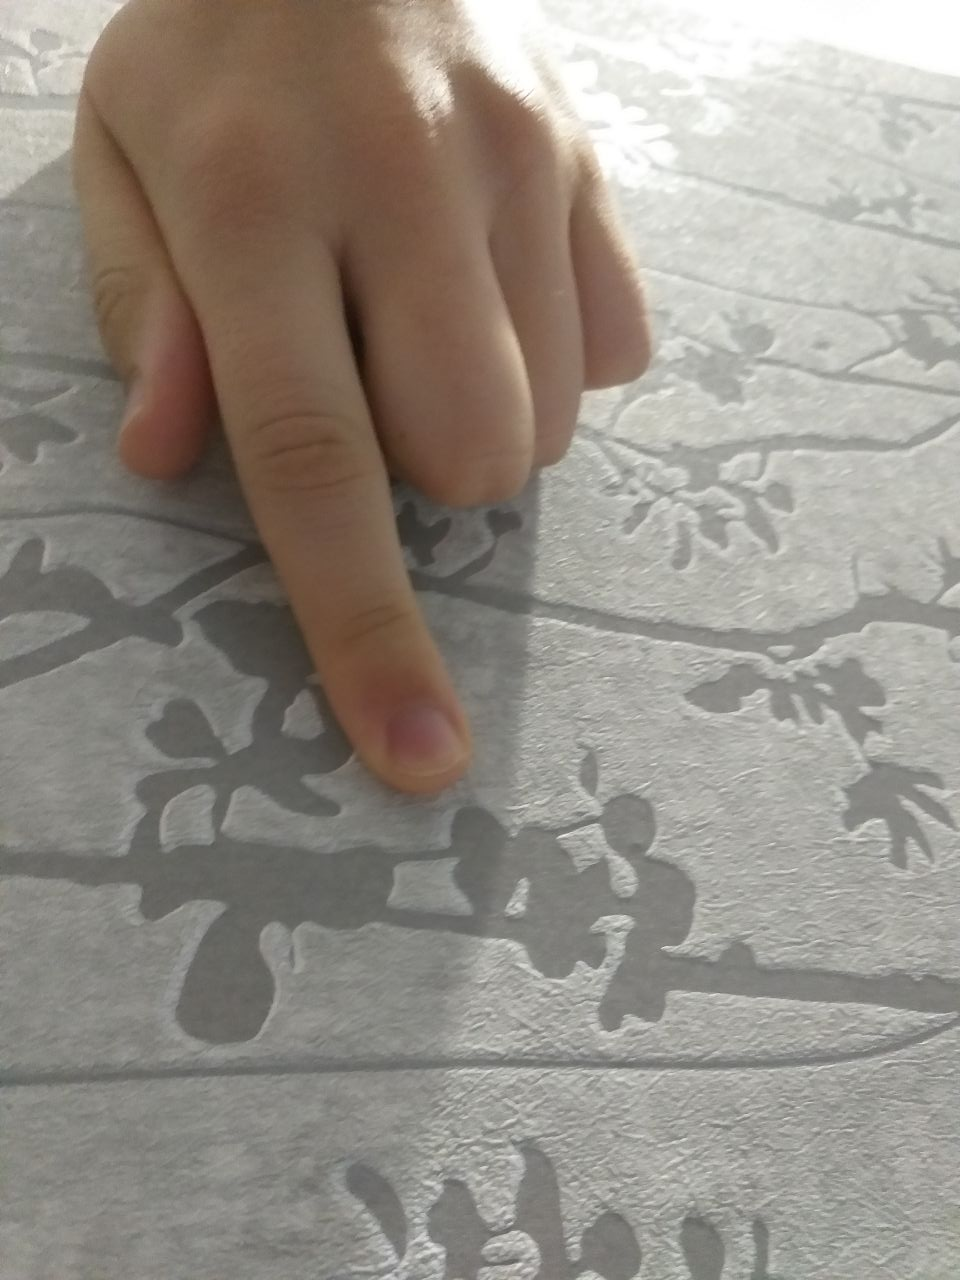finger: (334, 686, 473, 790)
